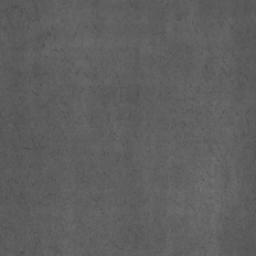Silk spot: (0, 0, 256, 256), (73, 0, 104, 38)
